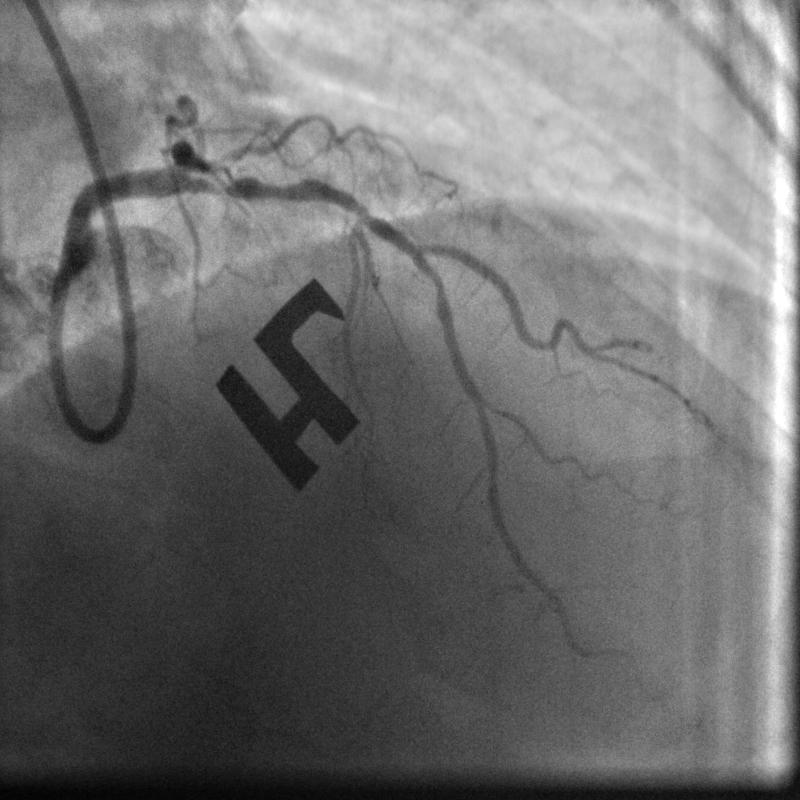Stenosis: (203, 166, 309, 199)
